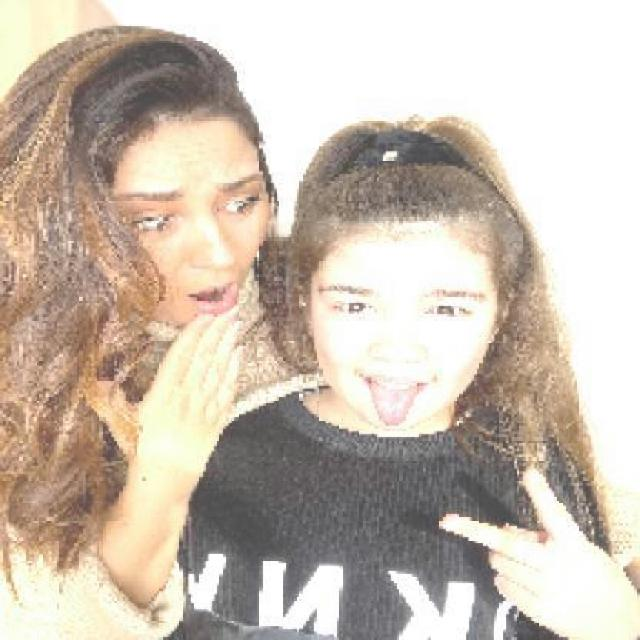child: (177, 112, 640, 638)
